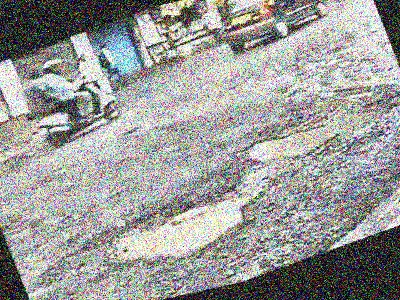pothole: (99, 179, 260, 275), (229, 88, 400, 174)
